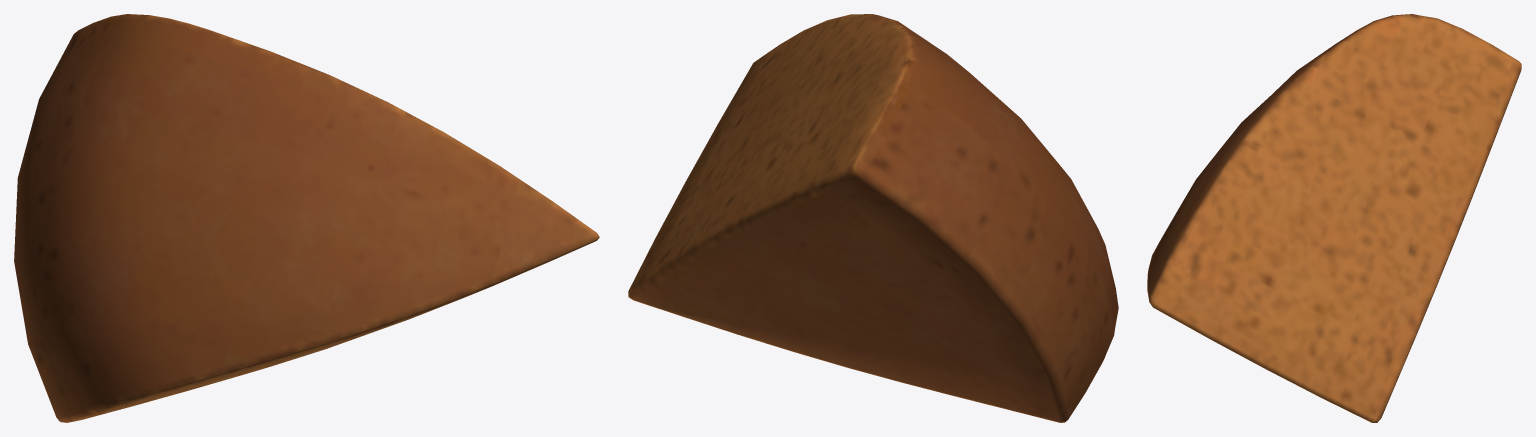
The model's file is BFFaGao.glb.
The picture shows the model from 3 angles, left to right: view 1: azimuth 30°, elevation 25°; view 2: azimuth 150°, elevation 25°; view 3: azimuth 270°, elevation 25°; orthographic projection. The views are drawn at different scales.
Parts seen in each view (by area): view 1: HTfaGao; view 2: HTfaGao; view 3: HTfaGao.
Boxes of the visible parts, <box> form: HTfaGao: <box>14,14,599,422</box>; HTfaGao: <box>628,14,1118,422</box>; HTfaGao: <box>1147,14,1521,422</box>.
Size of the model in its own units: 1.9 by 1.47 by 1.61.
1 material, 1 textured.
